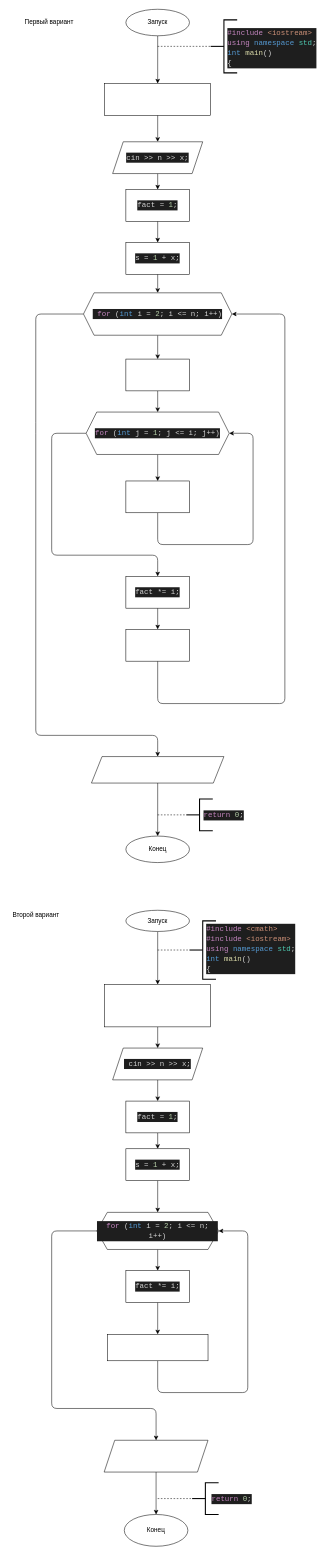
The diagram is 331 pixels wide and 1556 high, and some of its shapes have lost their labels. The centre of each missing label's shape, as x and y in pixels:
"cout << s << endl;" goes at (156,1456).
"cout << sum << endl;" goes at (157,769).
"int n; float x,y,fact,s;" goes at (157,1005).
"int n; float x,y,p,fact,s;" goes at (157,99).
"p *= x;" goes at (157,496).
"p= 1 ;" goes at (157,375).
"s += (p/fact)" goes at (157,645).
"s += pow (x,i) / fact;" goes at (157,1347).
